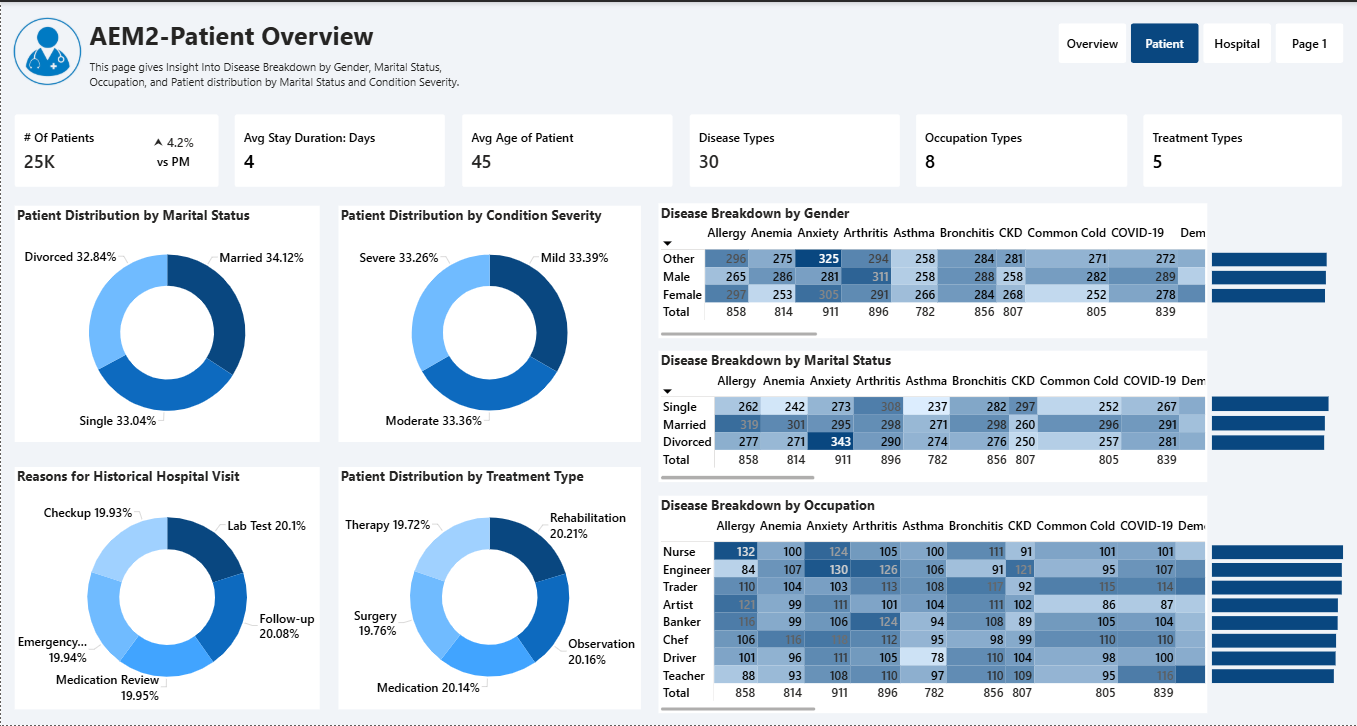

This screenshot's page, from the dashboard's own definition file:
{"tool":"powerbi","page":{"name":"Patient","canvas":[3000,1600],"ordinal":1},"visuals":[{"type":"barChart","title":"Patient by Occupation","fields":{"Category":["Patient_Profile.Occupation"],"Y":["CountNonNull(Patient_Profile.Patient_ID)"]},"box":[2673.1,1188.7,323.4,323.4],"z":0},{"type":"barChart","fields":{"Category":["Patient_Profile.Marital_Status"],"Y":["CountNonNull(Patient_Profile.Patient_ID)"]},"box":[2673.1,859.7,312.4,138.2],"z":1000},{"type":"pivotTable","title":"Disease Breakdown by Marital Status","fields":{"Rows":["Patient_Profile.Marital_Status"],"Values":["CountNonNull(Patient_Profile.Patient_ID)"],"Columns":["Patient_Treatment.Disease"]},"box":[1454.1,771.3,1213.6,290.3],"z":2000},{"type":"pivotTable","title":"Disease Breakdown by Occupation","fields":{"Rows":["Patient_Profile.Occupation"],"Columns":["Healthcare_with_realistic_dates.Disease"],"Values":["CountNonNull(Healthcare_with_realistic_dates.Patient_ID)"]},"box":[1454.1,1091.9,1213.6,481],"z":3000},{"type":"pivotTable","title":"Disease Breakdown by Gender","fields":{"Rows":["Healthcare_with_realistic_dates.Gender"],"Values":["CountNonNull(Healthcare_with_realistic_dates.Patient_ID)"],"Columns":["Healthcare_with_realistic_dates.Disease"]},"box":[1454.1,445.1,1213.6,298.6],"z":4000},{"type":"barChart","fields":{"Category":["Healthcare_with_realistic_dates.Gender"],"Y":["CountNonNull(Healthcare_with_realistic_dates.Patient_ID)"]},"box":[2673.1,541.8,312.4,129.9],"z":5000},{"type":"image","box":[13.8,19.4,176.9,179.7],"z":6000},{"type":"textbox","box":[190.7,30.4,829.3,182.4],"z":7000},{"type":"cardVisual","fields":{"Data":["Count(Patient_Treatment.Patient_ID)"]},"box":[30.4,248.8,450,160],"z":8000},{"type":"donutChart","title":"Patient Distribution by Marital Status","fields":{"Category":["Patient_Profile.Marital_Status"],"Y":["CountNonNull(Patient_Profile.Patient_ID)"]},"box":[30.4,450.6,674.5,522.5],"z":9000},{"type":"cardVisual","fields":{"Data":["Count(Patient_Treatment.Disease)"]},"box":[1523.2,248.8,464.4,160.3],"z":10000},{"type":"cardVisual","fields":{"Data":["Avg(Healthcare_with_realistic_dates.Age)"]},"box":[1020,248.8,464.4,160.3],"z":11000},{"type":"donutChart","title":"Patient Distribution by Condition Severity","fields":{"Y":["CountNonNull(Patient_History.Patient_ID)"],"Category":["Patient_History.Condition_Severity"]},"box":[746.4,450.6,669,522.5],"z":12000},{"type":"cardVisual","fields":{"Data":["Avg(Patient_Treatment.Length of Stay)"]},"box":[517.7,248.8,465,160],"z":13000},{"type":"cardVisual","fields":{"Data":["Count(Patient_Profile.Occupation)"]},"box":[2023.5,248.8,467.2,160.3],"z":14000},{"type":"cardVisual","fields":{"Data":["Count(Patient_Treatment.Treatment_Type)"]},"box":[2526.6,248.8,439.5,160.3],"z":15000},{"type":"pageNavigator","box":[2338.6,47,633,88.5],"z":16000},{"type":"donutChart","title":"Reasons for Historical Hospital Visit","fields":{"Category":["Patient_History.Visit_Type"],"Y":["CountNonNull(Patient_History.Patient_ID)"]},"box":[30.4,1028.3,674.5,536.3],"z":17000},{"type":"donutChart","title":"Patient Distribution by Treatment Type","fields":{"Category":["Patient_Treatment.Treatment_Type"],"Y":["CountNonNull(Patient_Treatment.Patient_ID)"]},"box":[746.4,1028.3,669,536.3],"z":18000},{"type":"card","fields":{"Values":["Patient_Treatment.MoM % difference"]},"box":[315.1,273.7,132.7,110.6],"z":18001}]}

Visuals, with their boxes in screenshot pixels (x1, y1, x2, y2), scaled from the page's 3000x1600 canvas onto the 1357x726 screenshot:
"Patient by Occupation" barChart: (left=1209, top=539, right=1355, bottom=686)
barChart - Patient_Profile.Marital_Status x CountNonNull(Patient_Profile.Patient_ID): (left=1209, top=390, right=1350, bottom=453)
"Disease Breakdown by Marital Status" pivotTable: (left=658, top=350, right=1207, bottom=482)
"Disease Breakdown by Occupation" pivotTable: (left=658, top=495, right=1207, bottom=714)
"Disease Breakdown by Gender" pivotTable: (left=658, top=202, right=1207, bottom=337)
barChart - Healthcare_with_realistic_dates.Gender x CountNonNull(Healthcare_with_realistic_dates.Patient_ID): (left=1209, top=246, right=1350, bottom=305)
image: (left=6, top=9, right=86, bottom=90)
textbox: (left=86, top=14, right=461, bottom=97)
cardVisual - Count(Patient_Treatment.Patient_ID): (left=14, top=113, right=217, bottom=185)
"Patient Distribution by Marital Status" donutChart: (left=14, top=204, right=319, bottom=442)
cardVisual - Count(Patient_Treatment.Disease): (left=689, top=113, right=899, bottom=186)
cardVisual - Avg(Healthcare_with_realistic_dates.Age): (left=461, top=113, right=671, bottom=186)
"Patient Distribution by Condition Severity" donutChart: (left=338, top=204, right=640, bottom=442)
cardVisual - Avg(Patient_Treatment.Length of Stay): (left=234, top=113, right=445, bottom=185)
cardVisual - Count(Patient_Profile.Occupation): (left=915, top=113, right=1127, bottom=186)
cardVisual - Count(Patient_Treatment.Treatment_Type): (left=1143, top=113, right=1342, bottom=186)
pageNavigator: (left=1058, top=21, right=1344, bottom=61)
"Reasons for Historical Hospital Visit" donutChart: (left=14, top=467, right=319, bottom=710)
"Patient Distribution by Treatment Type" donutChart: (left=338, top=467, right=640, bottom=710)
card - Patient_Treatment.MoM % difference: (left=143, top=124, right=203, bottom=174)
